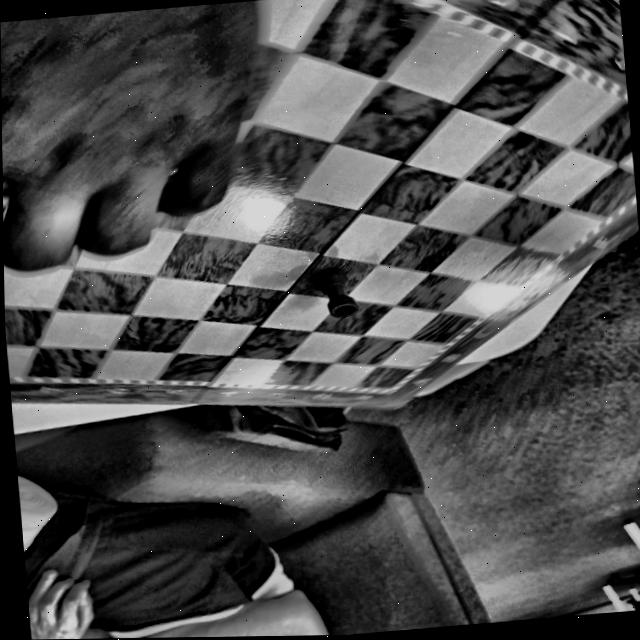black-rook: (311, 268, 358, 317)
